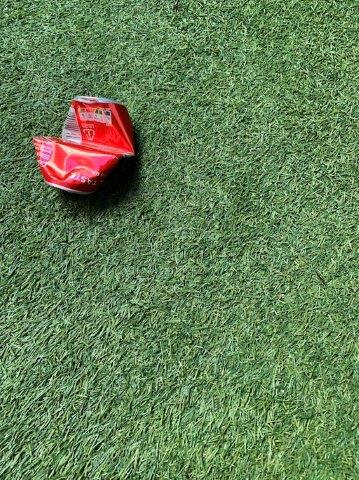kaleng: (35, 97, 132, 190)
